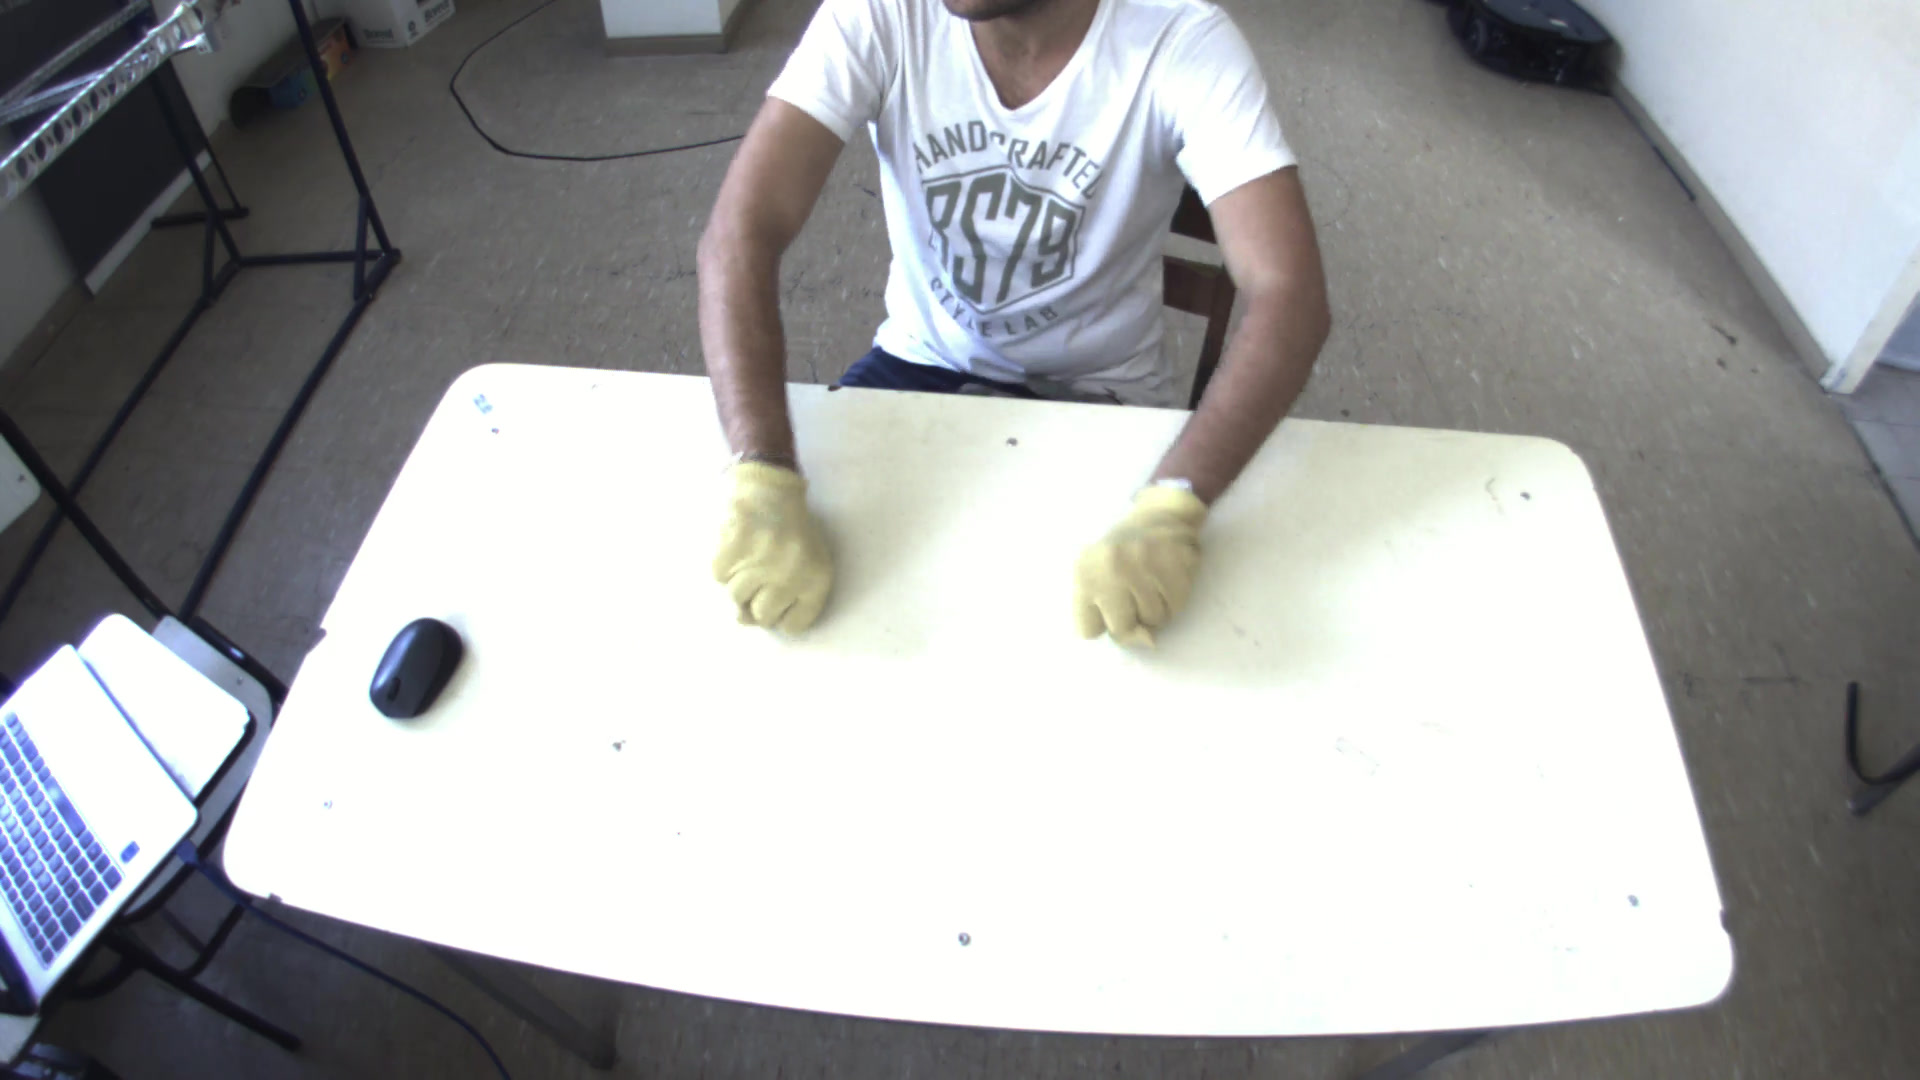hand: (698, 438, 851, 642), (1065, 469, 1218, 641)
